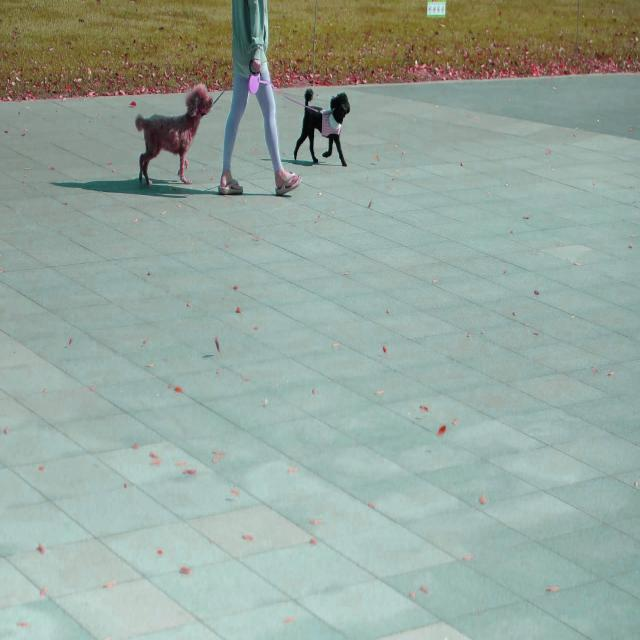Leashed_Dog: (135, 64, 246, 185), (260, 66, 350, 166)
